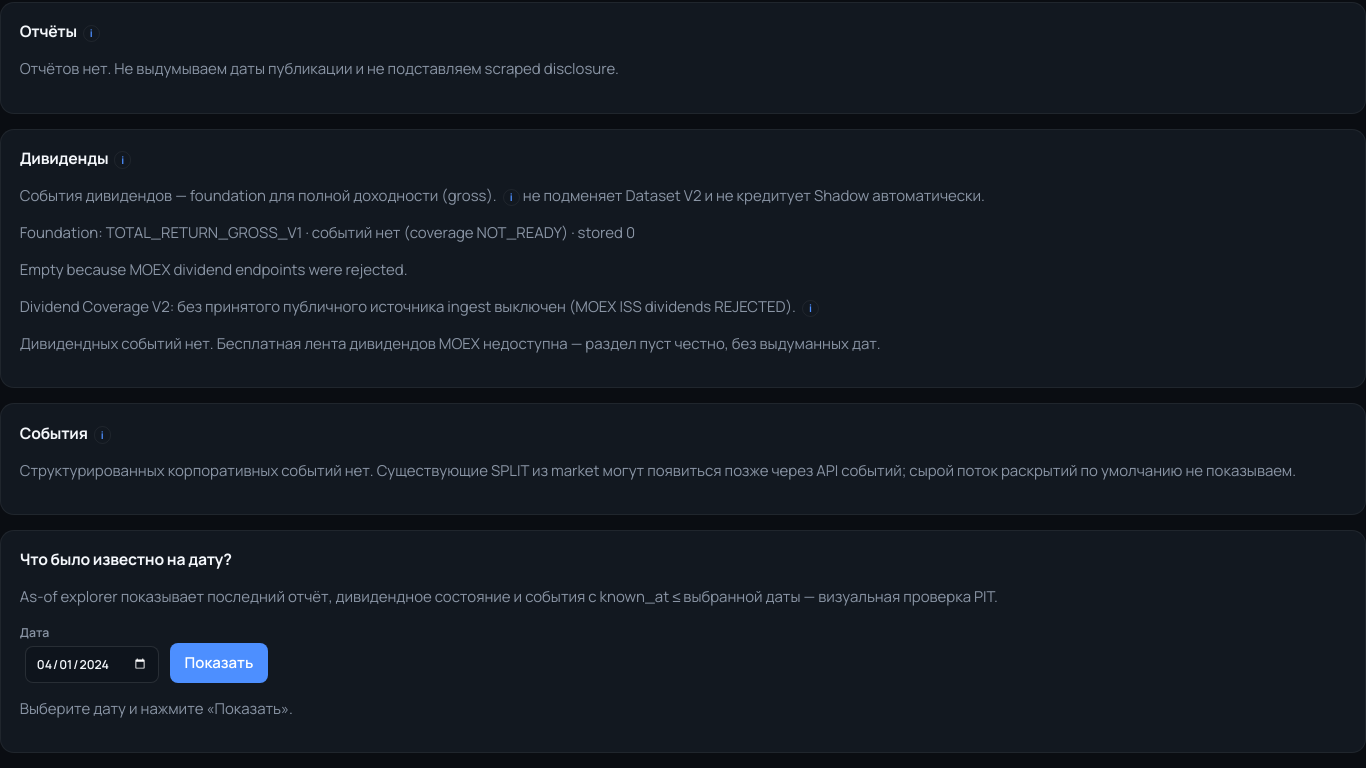
FundamentalIssuerPage › loads as-of result when explorer is used
(page scrolled)
Expected: the element with test id "asof-explorer" is shown, [0, 530, 1365, 754]
Click the button "Показать": (219,663) [170, 643, 268, 683]
(page scrolled)
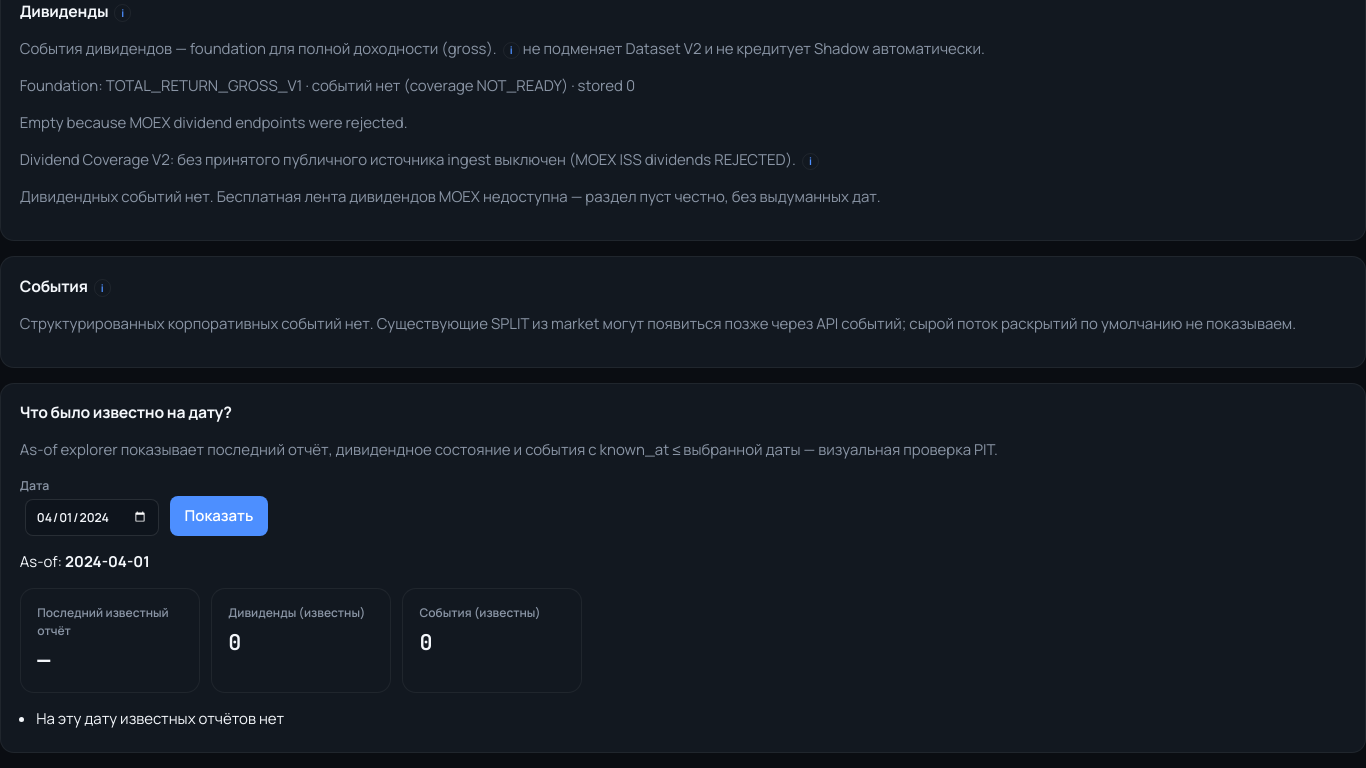
Expected: the element with test id "asof-result" shows "2024-04-01", [65, 551, 150, 572]
